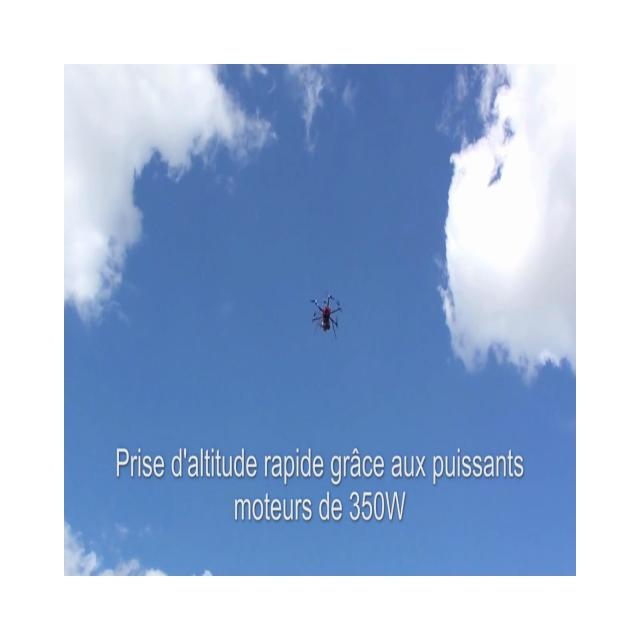drone: (310, 292, 342, 339)
